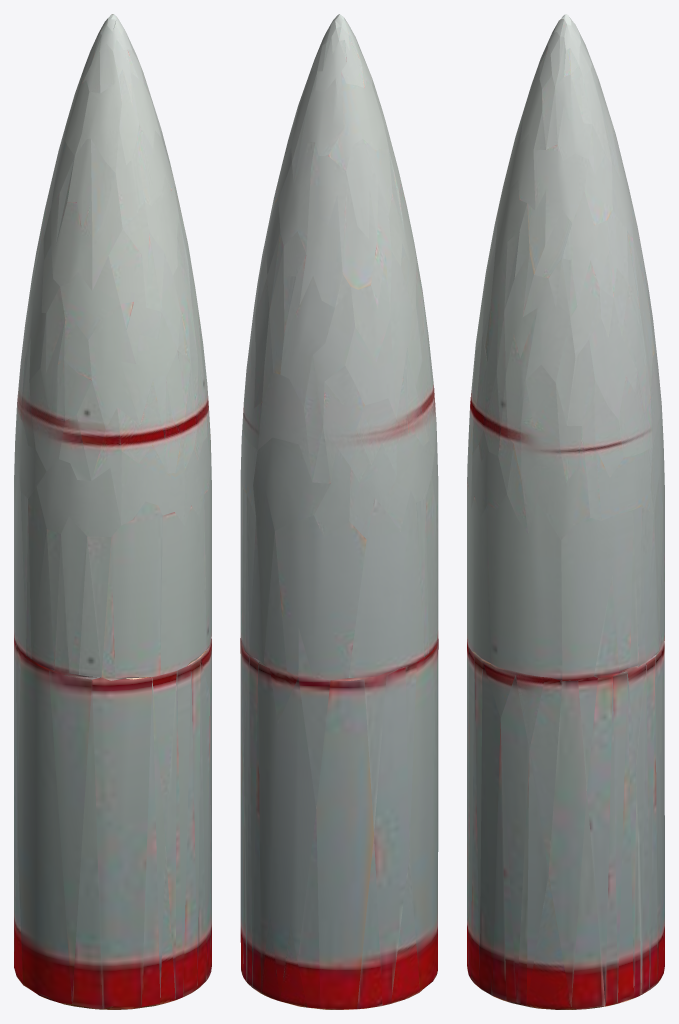
File: plume.glb
3 renders of one model, left to right at view 1: azimuth 30°, elevation 25°; view 2: azimuth 150°, elevation 25°; view 3: azimuth 270°, elevation 25°, orthographic.
Parts seen in each view (by area): view 1: mesh_node; view 2: mesh_node; view 3: mesh_node.
Boxes of the visible parts, <box> form: mesh_node: <box>14,14,211,1009</box>; mesh_node: <box>240,14,438,1009</box>; mesh_node: <box>467,14,664,1009</box>.
Size of the model in its own units: 0.3573 by 1.9 by 0.3574.
1 material, 1 textured.
